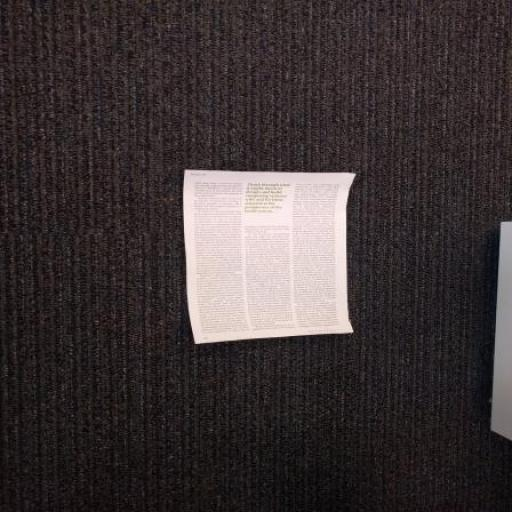paper: (92, 136, 429, 418)
